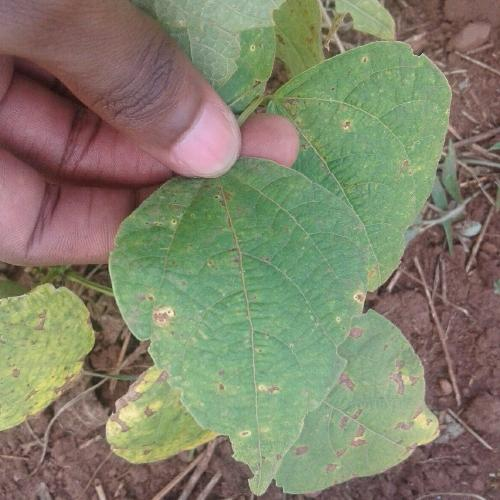hawar: (119, 280, 211, 351), (176, 176, 260, 246), (330, 354, 424, 409), (204, 365, 313, 411), (288, 422, 367, 482)
